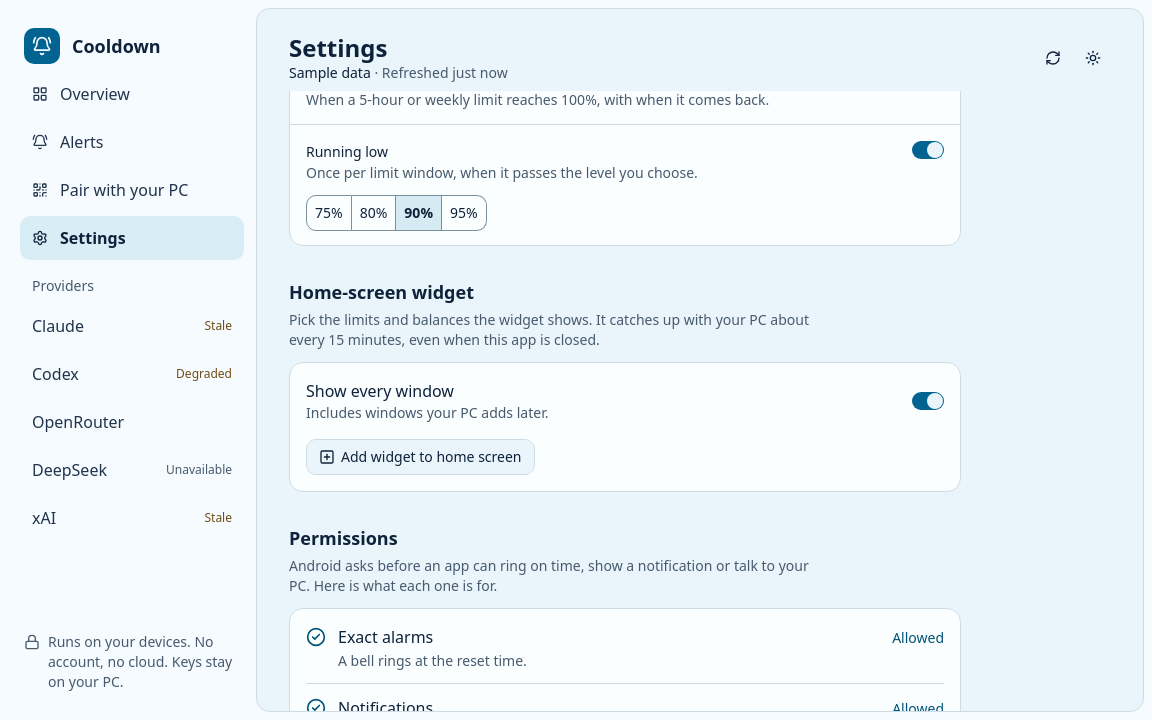
Test: Phone widget settings › says when the choice could not be saved and keeps the old one
(page scrolled)
Click the switch named "Show every window" in the row of "Includes windows your PC adds later.": (928,401) [912,392,944,410]
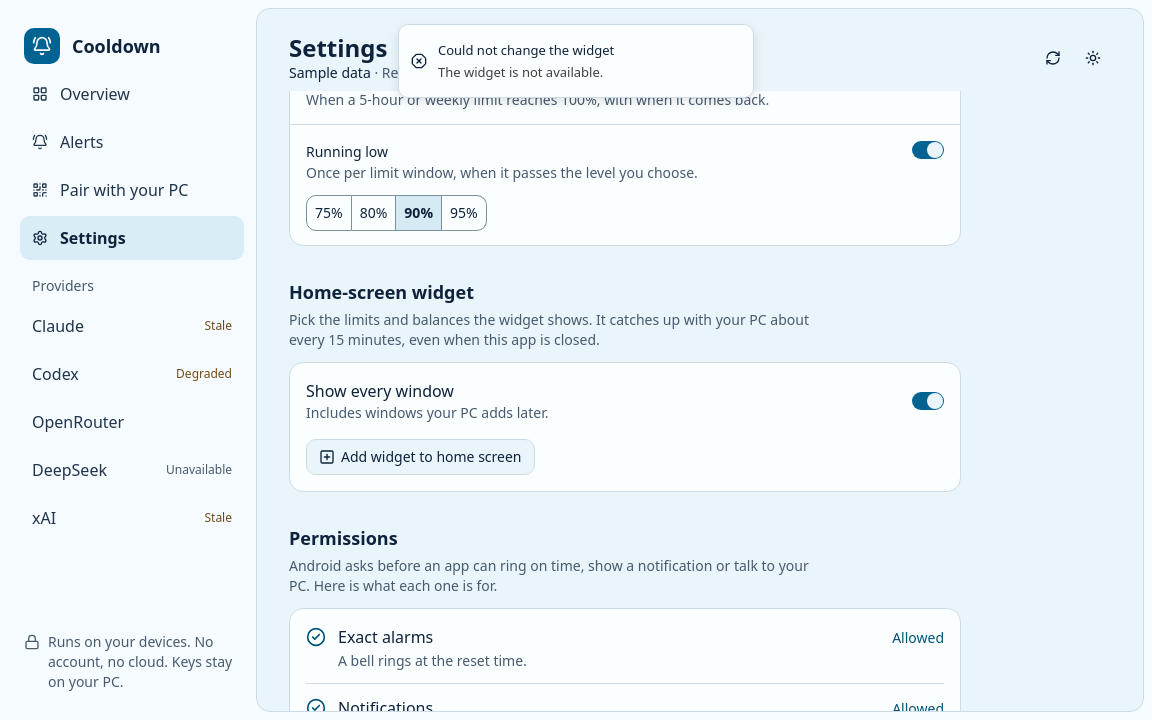
Check: the text "Could not change the widget" is shown, box [438,41,614,60]
Check: the text "The widget is not available." is shown, box [438,62,614,81]
